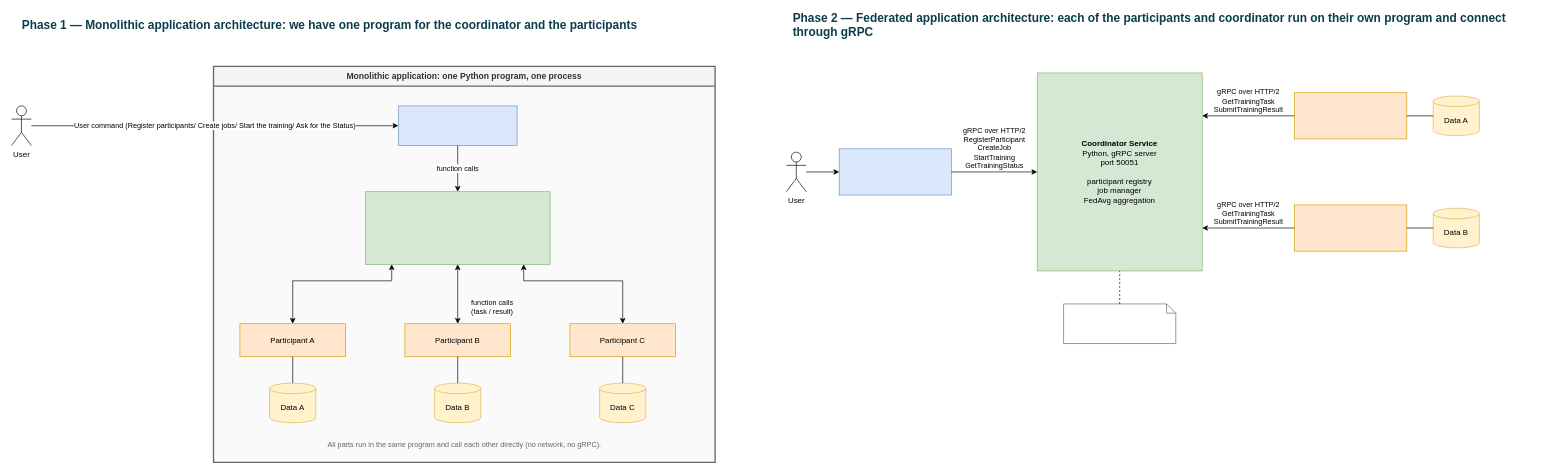
Image size: 1562x475. Some labels were removed from this diagram. The box of each missing label's shape, as (x1, y1, x2, y2) in pixels:
Coordinator participant registry job manager (rounds) FedAvg aggregation: (365, 191, 550, 264)
federated.proto (shared by all components): (1063, 303, 1176, 344)
Management CLIENT: (398, 105, 517, 146)
Management Client CLI (Python): (839, 148, 951, 195)
Participant A Node.js: (1294, 92, 1407, 139)
Participant B Python: (1294, 204, 1407, 251)
